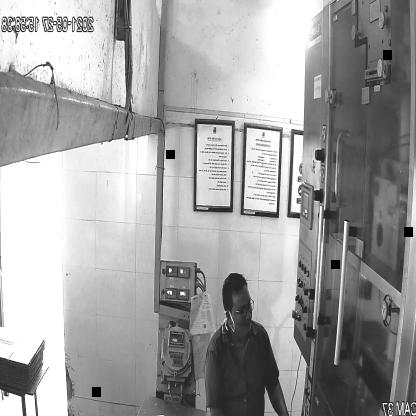goggles: (224, 296, 257, 322)
